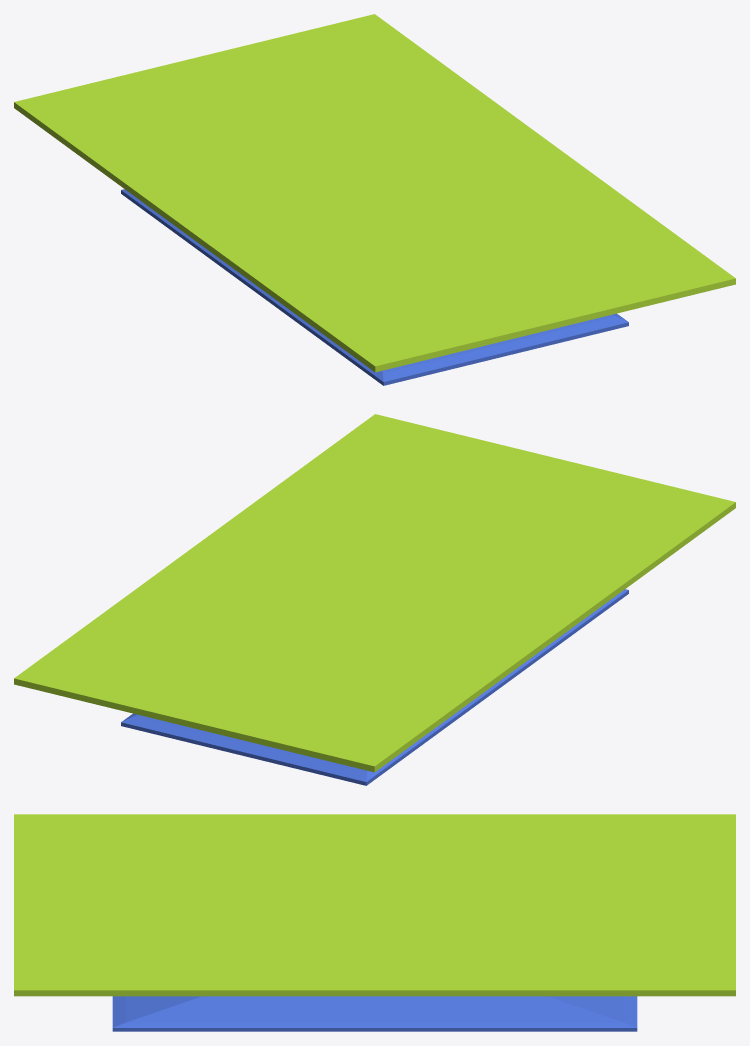
The model's file is futuristicTable.fbx.
The picture shows the model from 3 angles, top to bottom: view 1: azimuth 30°, elevation 25°; view 2: azimuth 150°, elevation 25°; view 3: azimuth 270°, elevation 25°; orthographic projection.
Visible parts, largest first — view 1: Cube, Cube.001; view 2: Cube, Cube.001; view 3: Cube, Cube.001.
Boxes of the visible parts, bbox=[...] form: Cube: bbox=[14, 14, 735, 372]; Cube.001: bbox=[121, 189, 628, 385]; Cube: bbox=[14, 414, 735, 772]; Cube.001: bbox=[121, 589, 628, 785]; Cube: bbox=[14, 814, 735, 996]; Cube.001: bbox=[112, 996, 637, 1031].
Bounding box in the file's own units: 647 × 119 × 1121.
